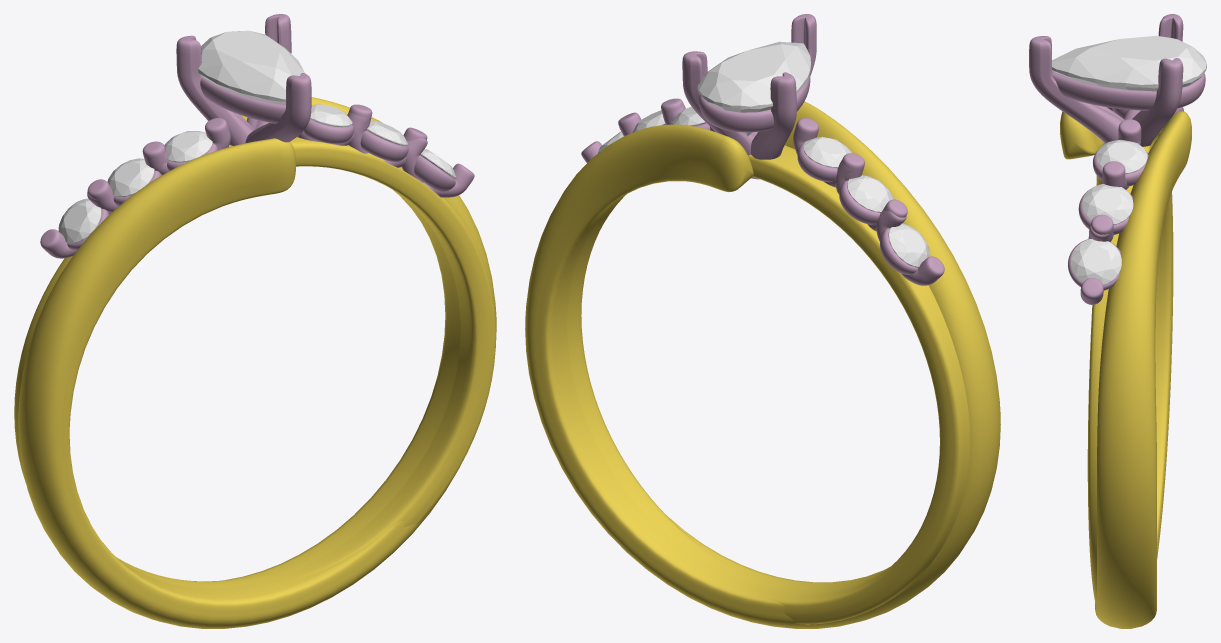
The picture shows the model from 3 angles, left to right: view 1: azimuth 30°, elevation 25°; view 2: azimuth 150°, elevation 25°; view 3: azimuth 270°, elevation 25°; orthographic projection.
Parts seen in each view (by area): view 1: anello goccia mercatino 16.3.26.3dm; view 2: anello goccia mercatino 16.3.26.3dm; view 3: anello goccia mercatino 16.3.26.3dm.
Part boxes in pixels (<box>): anello goccia mercatino 16.3.26.3dm: <box>14,14,496,628</box>; anello goccia mercatino 16.3.26.3dm: <box>525,14,1000,628</box>; anello goccia mercatino 16.3.26.3dm: <box>1029,14,1206,628</box>.
Size of the model in its own units: 2.53 by 2.98 by 0.849.
